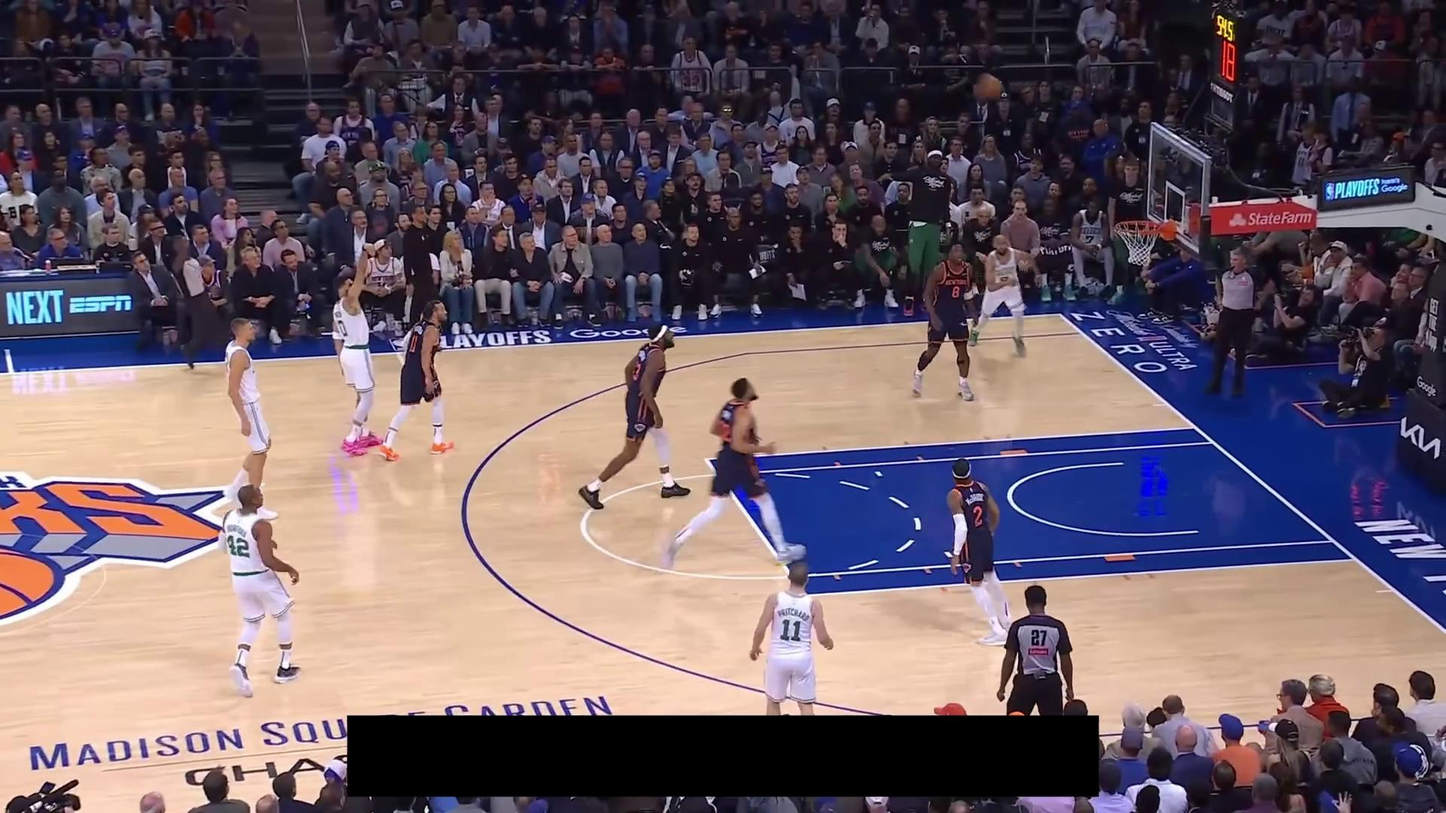ball: (974, 72, 1003, 100)
number: (226, 534, 251, 558), (779, 618, 802, 642), (972, 504, 984, 528), (408, 334, 419, 354), (338, 319, 349, 337), (951, 285, 961, 299)
player: (660, 376, 808, 574), (578, 320, 693, 510), (216, 483, 303, 700), (943, 455, 1016, 648), (749, 559, 834, 715), (377, 297, 456, 462), (331, 239, 389, 458), (221, 315, 282, 522), (911, 239, 979, 403), (968, 233, 1041, 358)
referee: (996, 584, 1074, 716), (1203, 246, 1270, 397), (170, 229, 226, 373)
rim: (1114, 219, 1161, 234)
